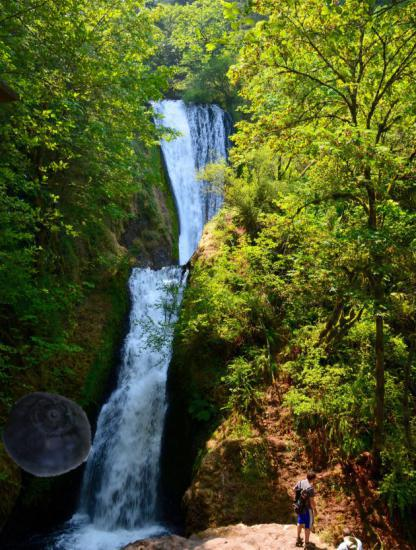Blueberry: (4, 391, 94, 481)
